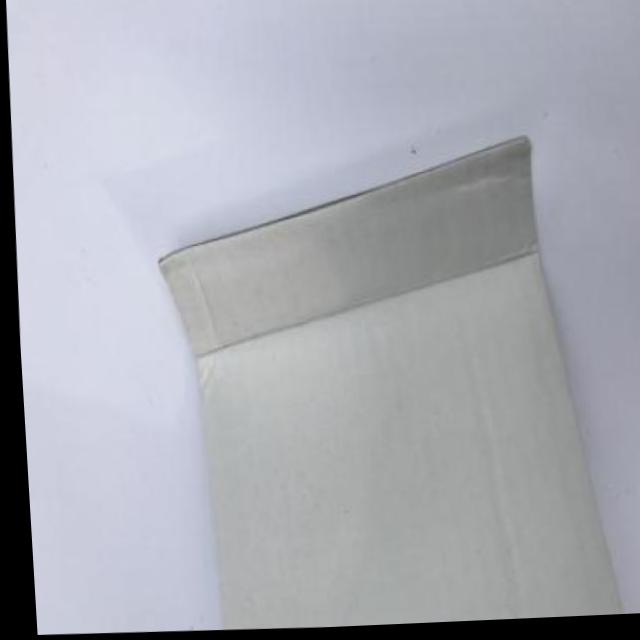box: (143, 120, 640, 635)
